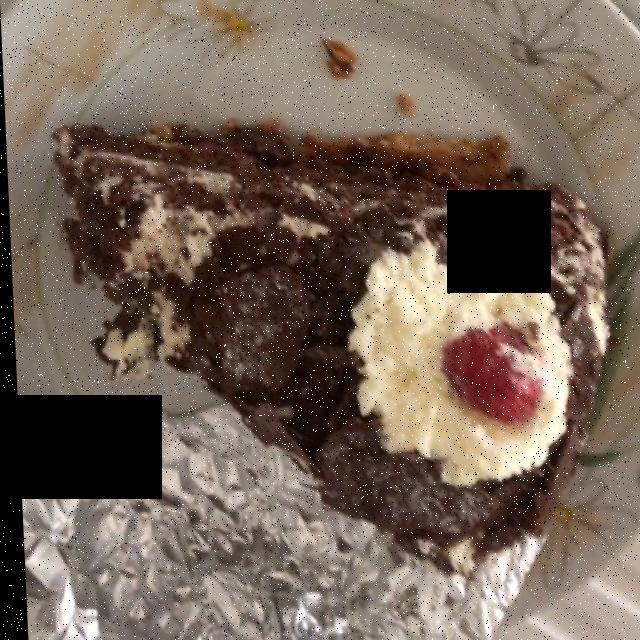cake: (52, 133, 609, 583)
